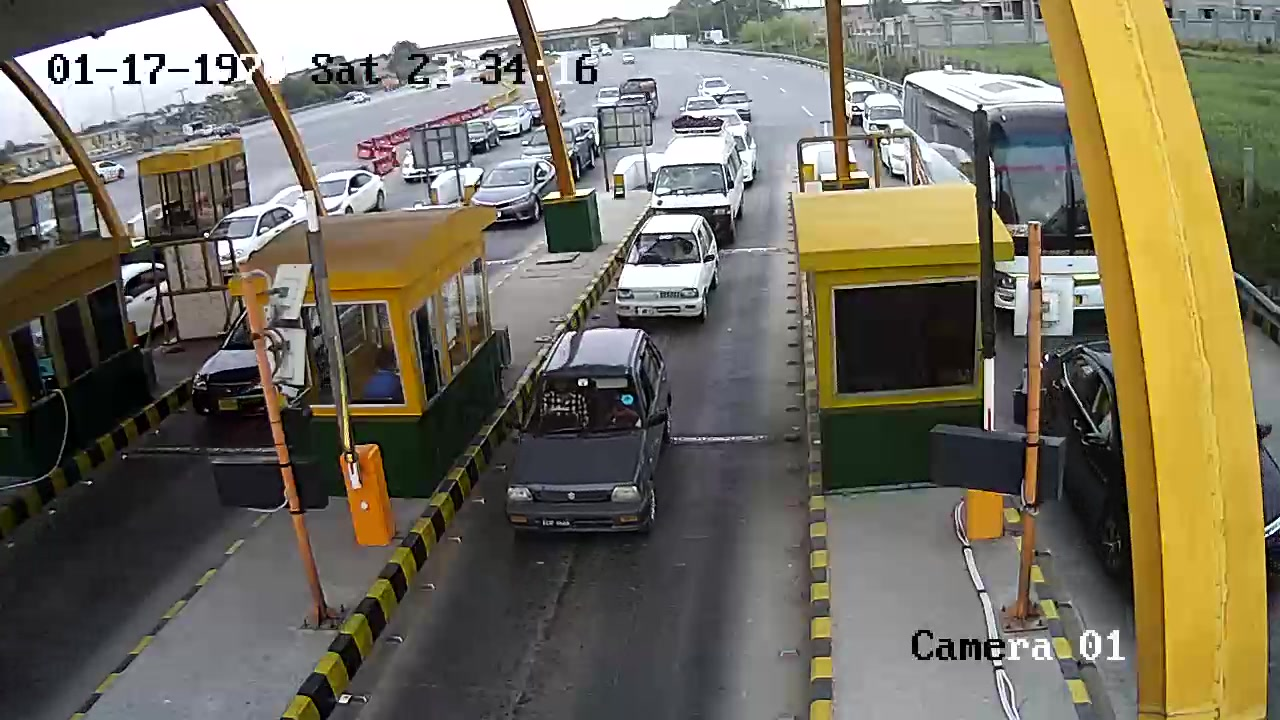F1: (508, 329, 688, 538), (618, 212, 721, 325)
